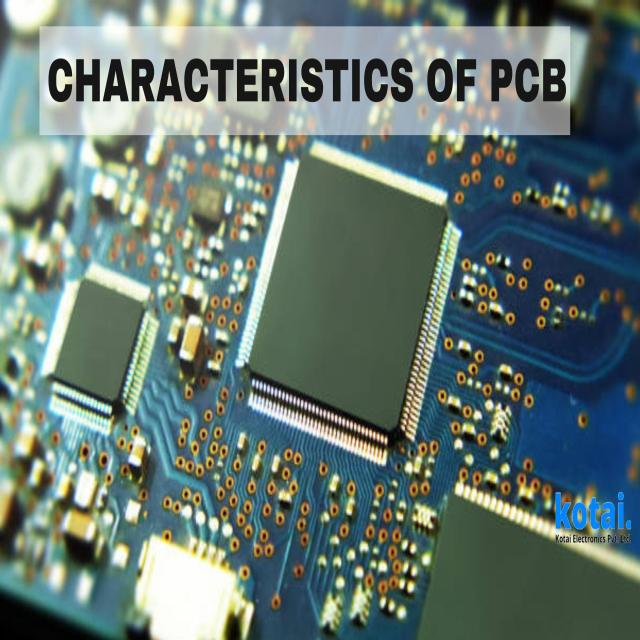pcb: (1, 10, 638, 638)
